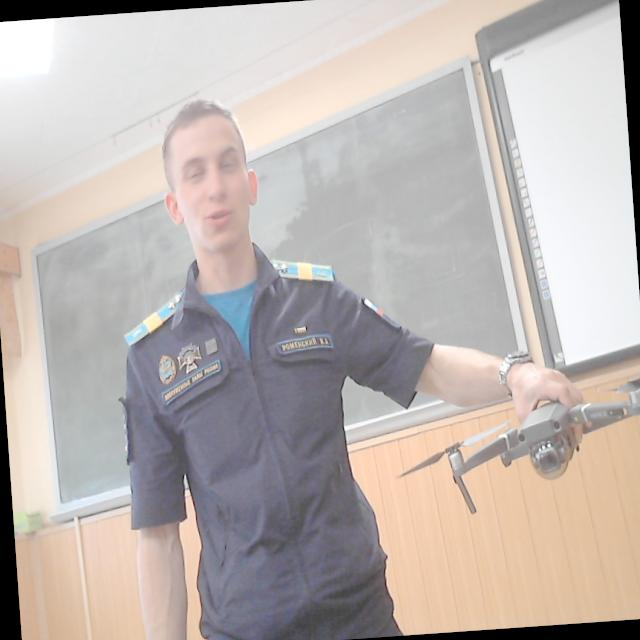drone: (381, 370, 640, 525)
